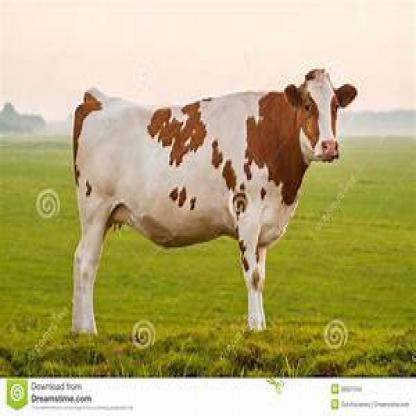cow: (73, 69, 358, 328)
